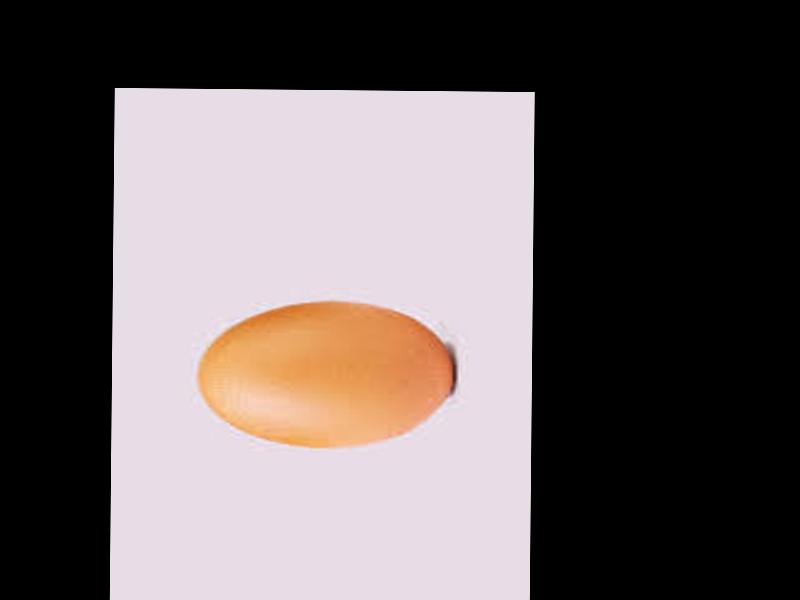Eggs: (193, 301, 456, 447)
